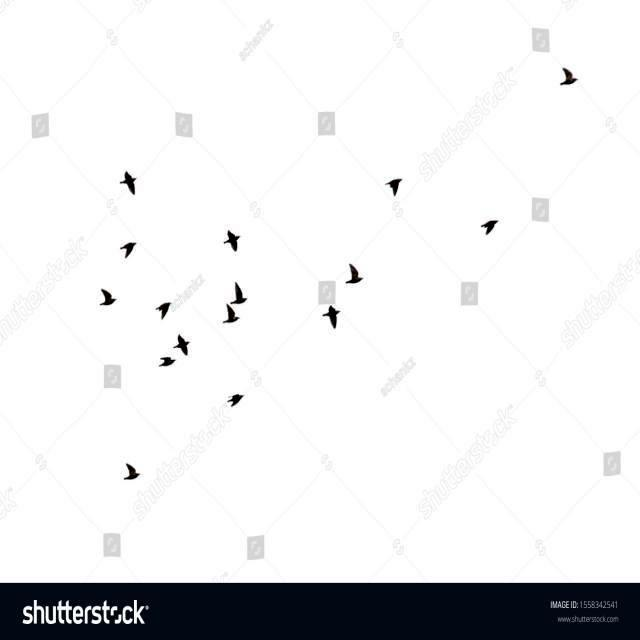bird: (106, 168, 145, 202), (554, 63, 582, 95), (322, 302, 346, 332), (173, 331, 199, 357), (344, 264, 368, 292), (383, 176, 413, 198), (480, 216, 506, 240), (147, 300, 177, 320), (116, 240, 142, 263), (228, 284, 255, 306), (97, 282, 118, 310), (221, 223, 242, 251), (154, 350, 181, 371), (223, 302, 245, 326), (125, 456, 142, 484), (226, 393, 245, 409)
